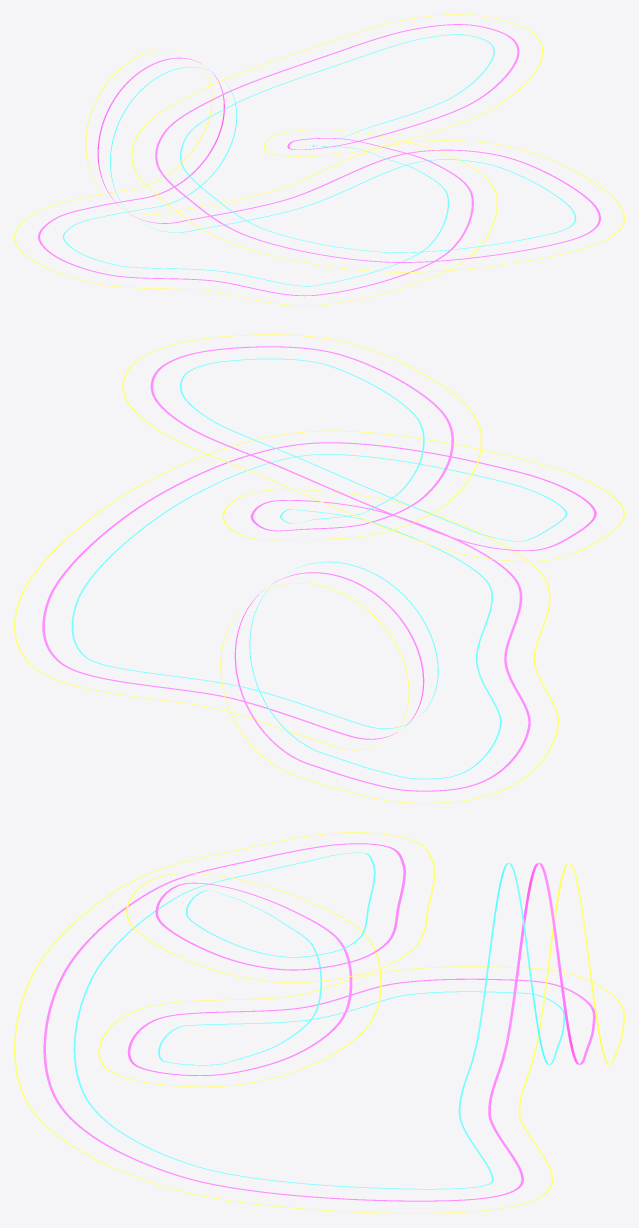
File: mini-rc-track-spline.glb
3 views of the same model, one above another, from view 1: azimuth 30°, elevation 25°; view 2: azimuth 150°, elevation 25°; view 3: azimuth 270°, elevation 25° (orthographic). The views are drawn at different scales.
Visible parts, largest first — view 1: SPLINE_CENTERLINE, SPLINE_RIGHT_EDGE, SPLINE_LEFT_EDGE; view 2: SPLINE_CENTERLINE, SPLINE_RIGHT_EDGE, SPLINE_LEFT_EDGE; view 3: SPLINE_CENTERLINE, SPLINE_RIGHT_EDGE, SPLINE_LEFT_EDGE.
Boxes of the visible parts, x1,y1,x2,y2 form: SPLINE_CENTERLINE: (38,24,600,296); SPLINE_RIGHT_EDGE: (14,14,624,305); SPLINE_LEFT_EDGE: (62,34,576,286); SPLINE_CENTERLINE: (42,346,596,791); SPLINE_RIGHT_EDGE: (14,334,624,803); SPLINE_LEFT_EDGE: (71,358,567,779); SPLINE_CENTERLINE: (43,843,595,1201); SPLINE_RIGHT_EDGE: (14,832,624,1213); SPLINE_LEFT_EDGE: (73,852,565,1189).
Bounding box in the file's own units: 27.73 × 10.73 × 25.55.
